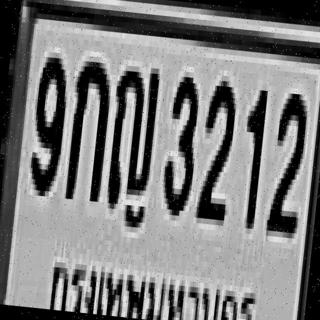A01: (64, 55, 112, 196)
A13: (104, 59, 160, 207)
N01: (235, 84, 266, 224)
N02: (264, 87, 309, 233), (194, 74, 237, 220)
N03: (159, 70, 201, 211)
N09: (27, 51, 69, 192)
P04: (45, 253, 261, 320)
